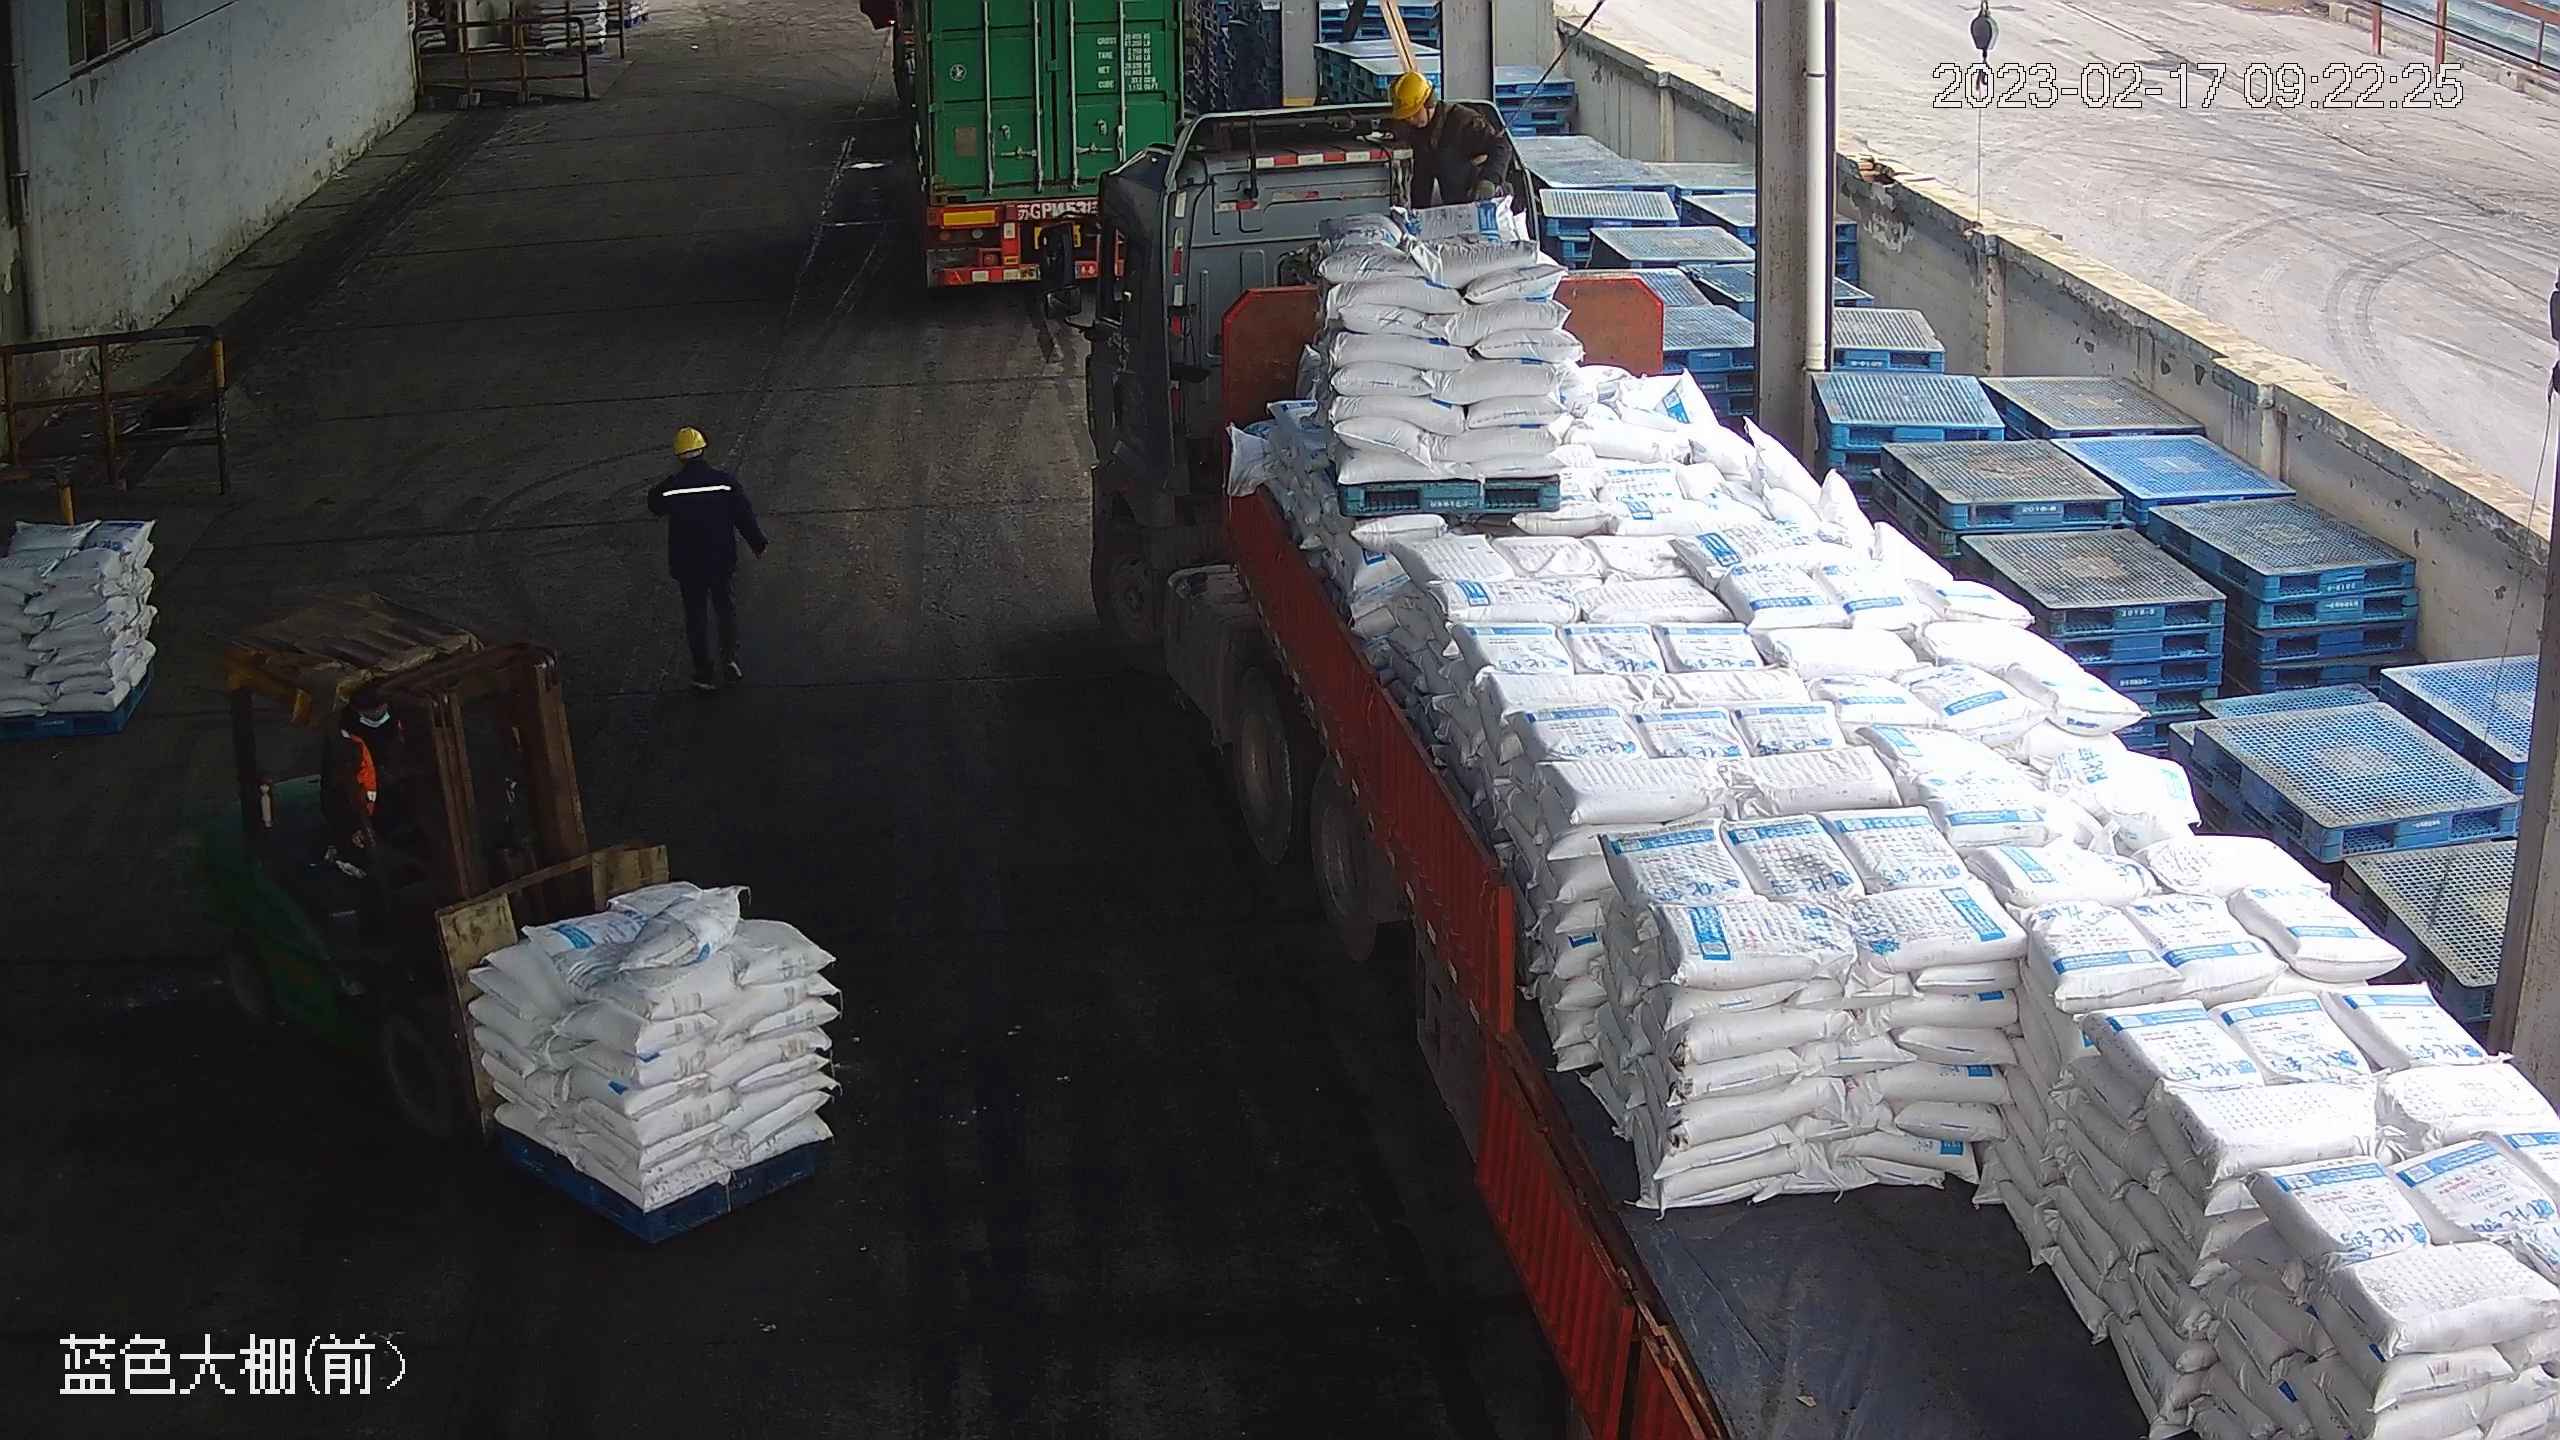belt: (1419, 101, 1470, 145)
head: (1388, 68, 1475, 141), (655, 425, 738, 494)
helmet: (1388, 68, 1431, 113), (671, 424, 706, 452)
people: (647, 424, 768, 690)
truck: (1044, 96, 2552, 1440), (886, 0, 1183, 290)
